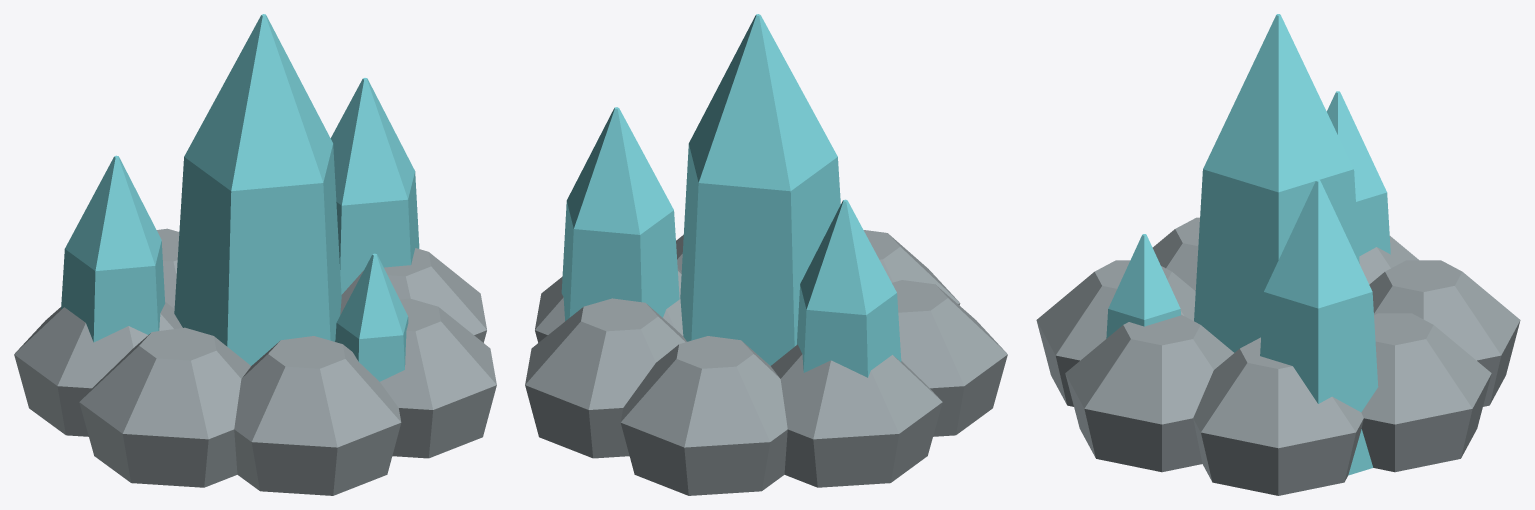
Rendered from CrystalOre.fbx.
3 views of the same model, side by side, from view 1: azimuth 30°, elevation 25°; view 2: azimuth 150°, elevation 25°; view 3: azimuth 270°, elevation 25° (orthographic).
Parts seen in each view (by area): view 1: CrystalOre.002; view 2: CrystalOre.002; view 3: CrystalOre.002.
Boxes of the visible parts, bbox=[...] form: CrystalOre.002: bbox=[14, 14, 496, 495]; CrystalOre.002: bbox=[525, 14, 1007, 495]; CrystalOre.002: bbox=[1036, 14, 1520, 495].
Bounding box in the file's own units: 95.05 × 85 × 97.49.
